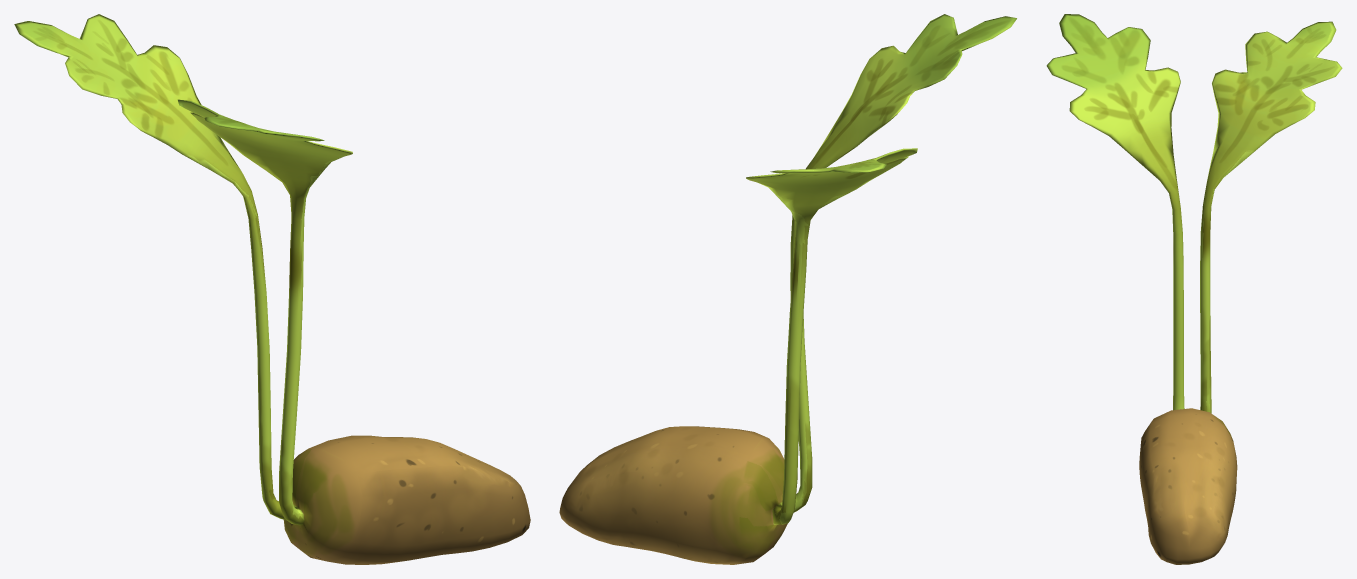
File: PlantPotato2ndStage.fbx
3 views of the same model, side by side, from view 1: azimuth 30°, elevation 25°; view 2: azimuth 150°, elevation 25°; view 3: azimuth 270°, elevation 25° (orthographic). The views are drawn at different scales.
Parts seen in each view (by area): view 1: Potato.001; view 2: Potato.001; view 3: Potato.001.
Boxes of the visible parts, x1,y1,x2,y2 form: Potato.001: [14, 14, 530, 564]; Potato.001: [559, 14, 1016, 564]; Potato.001: [1046, 14, 1342, 564].
Bounding box in the file's own units: 50.85 × 64.89 × 41.78.
Materials: 1 (1 with a texture image).
